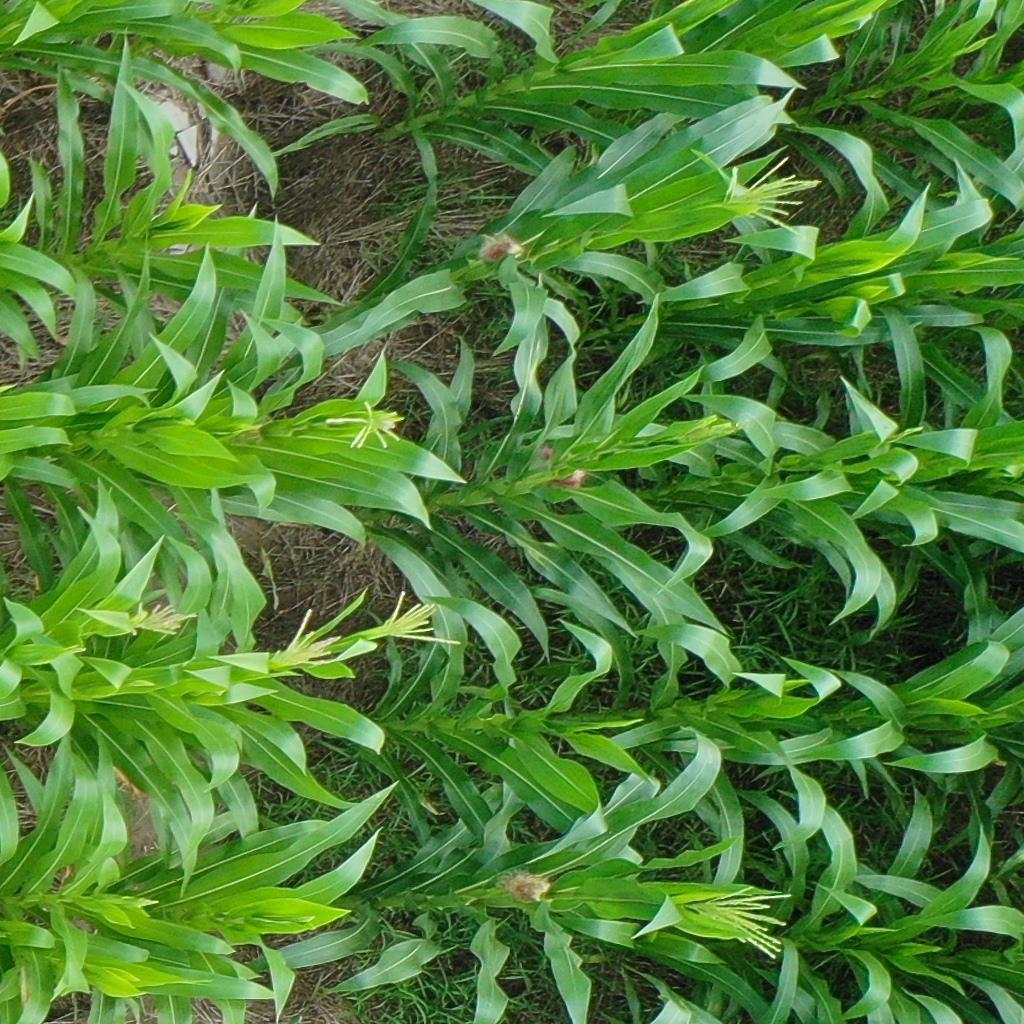Tassel: (717, 154, 823, 237), (696, 881, 792, 961), (374, 588, 462, 650), (268, 604, 341, 670), (325, 401, 402, 450), (122, 598, 200, 640)
